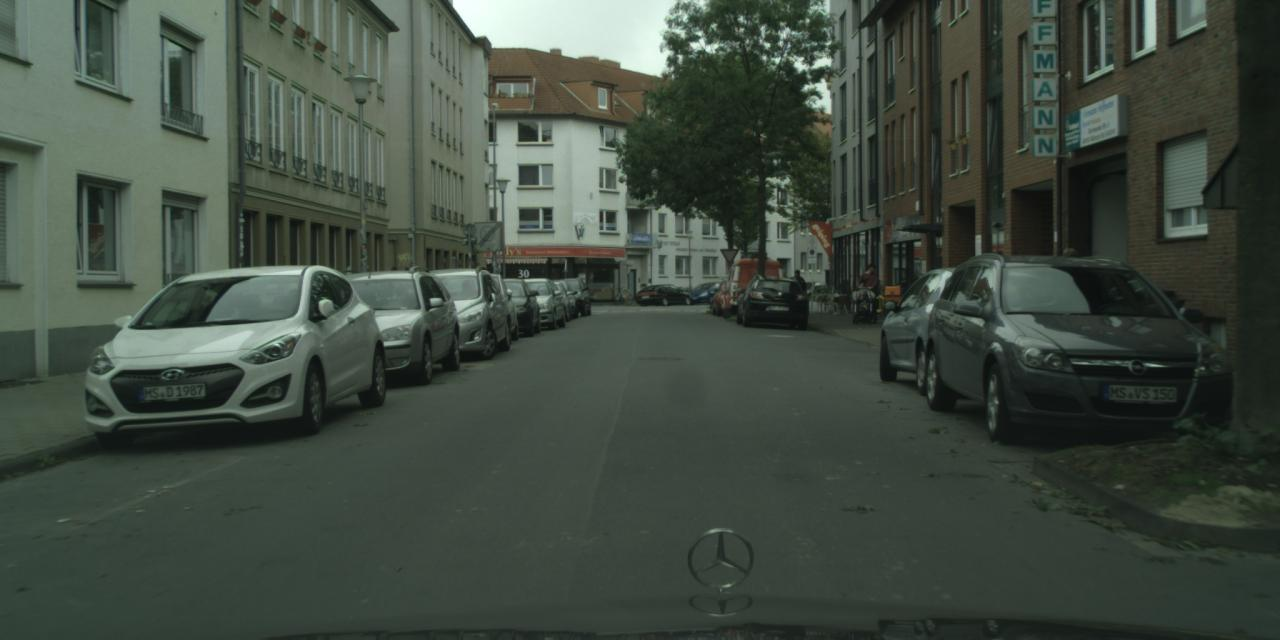ped: (1050, 249, 1096, 359), (858, 262, 882, 321), (789, 270, 807, 316)
